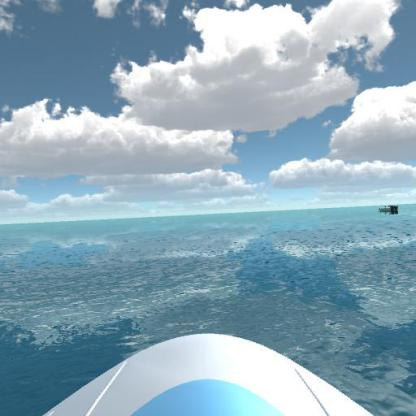usv0: (374, 201, 402, 216)
